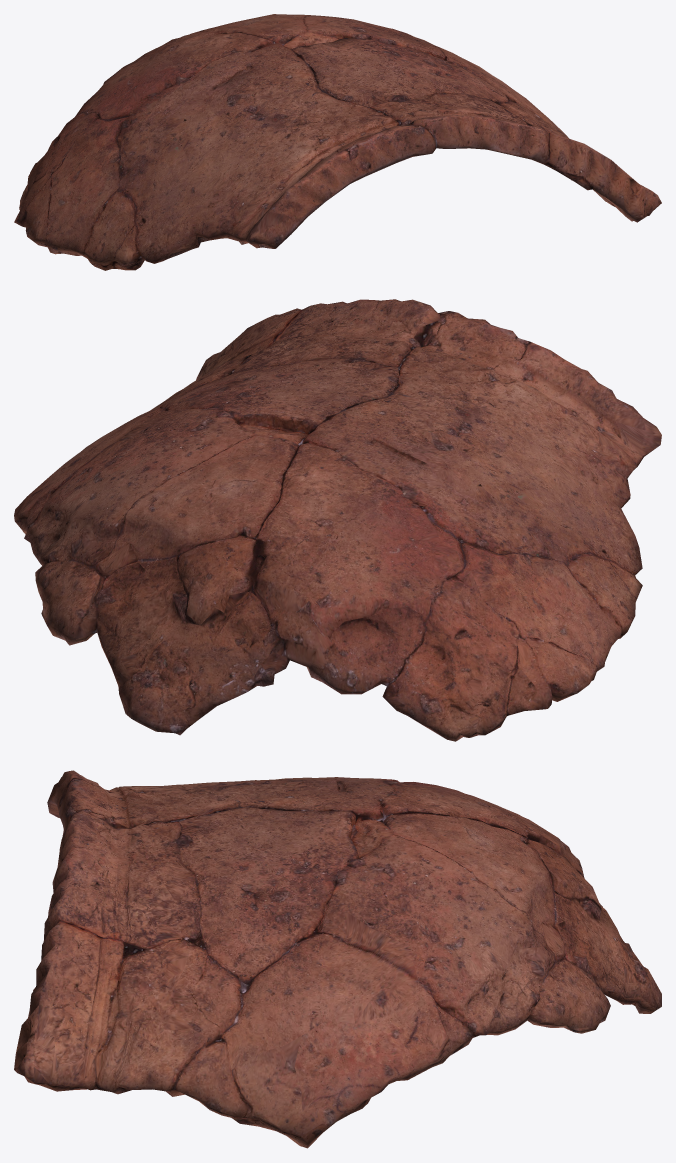
File: cup1_low_re.glb
The picture shows the model from 3 angles, top to bottom: view 1: azimuth 30°, elevation 25°; view 2: azimuth 150°, elevation 25°; view 3: azimuth 270°, elevation 25°; orthographic projection. The views are drawn at different scales.
Parts seen in each view (by area): view 1: Model; view 2: Model; view 3: Model.
Boxes of the visible parts, x1,y1,x2,y2 form: Model: (14,14,661,270); Model: (14,299,661,741); Model: (14,770,661,1148).
Size of the model in its own units: 2.86 by 0.9437 by 2.69.
1 material, 1 textured.
